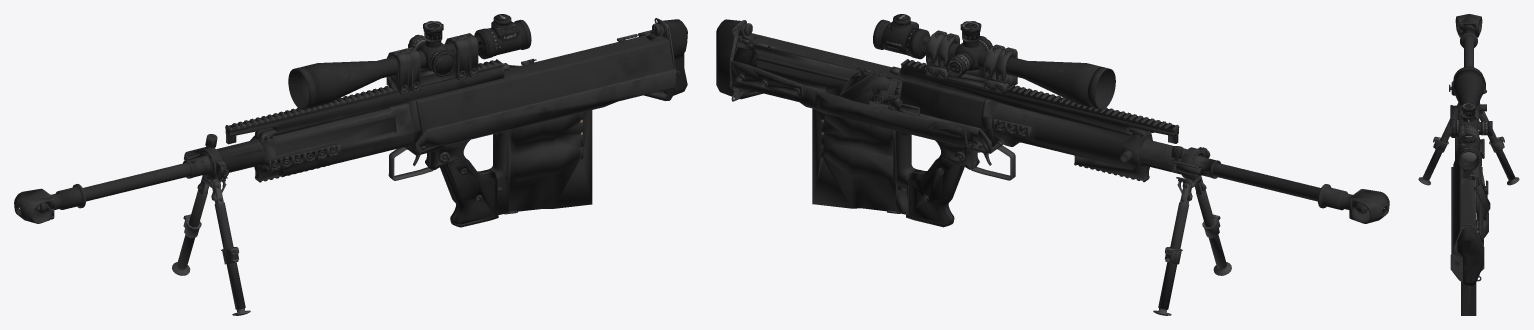
The model's file is sniper.glb.
The picture shows the model from 3 angles, left to right: view 1: azimuth 30°, elevation 25°; view 2: azimuth 150°, elevation 25°; view 3: azimuth 270°, elevation 25°; orthographic projection. The views are drawn at different scales.
Visible parts, largest first — view 1: Cylinder.006_GM6-Lynx_1_0, Cylinder.006_GM6-Lynx_2_0; view 2: Cylinder.006_GM6-Lynx_1_0, Cylinder.006_GM6-Lynx_2_0; view 3: Cylinder.006_GM6-Lynx_1_0, Cylinder.006_GM6-Lynx_2_0.
Part boxes in pixels (box(x1,y1,x2,y2)): Cylinder.006_GM6-Lynx_1_0: box(14, 18, 687, 315); Cylinder.006_GM6-Lynx_2_0: box(288, 14, 531, 109); Cylinder.006_GM6-Lynx_1_0: box(716, 19, 1389, 315); Cylinder.006_GM6-Lynx_2_0: box(873, 14, 1115, 109); Cylinder.006_GM6-Lynx_1_0: box(1418, 14, 1519, 315); Cylinder.006_GM6-Lynx_2_0: box(1452, 66, 1492, 170).
Bounding box in the file's own units: 5.6 × 1.73 × 1.01.
Materials: 2 (2 with a texture image).
